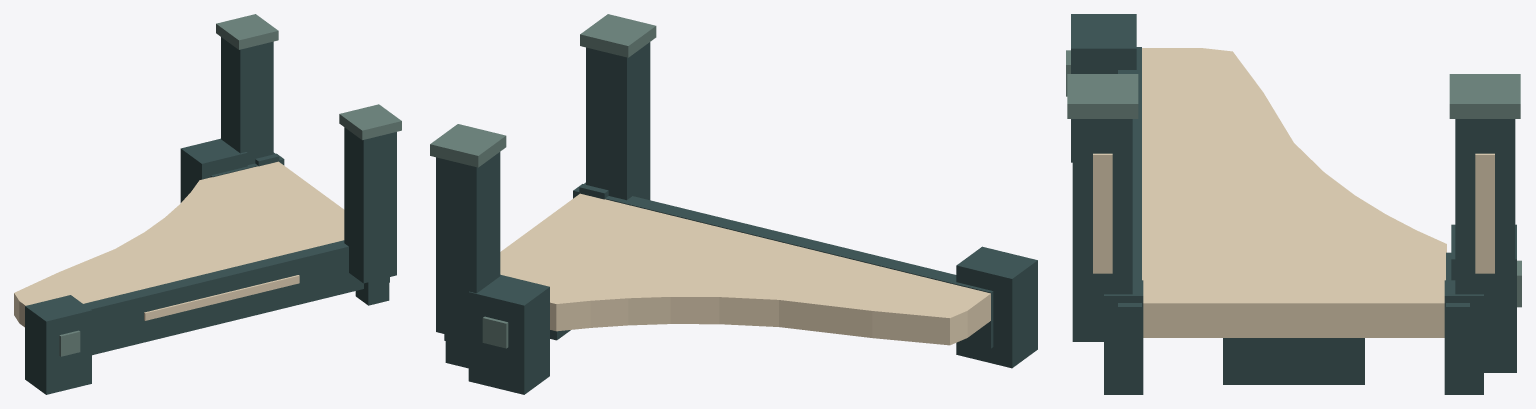
File: Pier_Angled_70_Switch_lab2.glb
3 renders of one model, left to right at view 1: azimuth 30°, elevation 25°; view 2: azimuth 150°, elevation 25°; view 3: azimuth 270°, elevation 25°, orthographic. The views are drawn at different scales.
Visible parts, largest first — view 1: Pier_Angled_70_Switch; view 2: Pier_Angled_70_Switch; view 3: Pier_Angled_70_Switch.
Part boxes in pixels (box(x1,y1,x2,y2)): Pier_Angled_70_Switch: box(14, 14, 401, 394); Pier_Angled_70_Switch: box(430, 14, 1037, 394); Pier_Angled_70_Switch: box(1066, 14, 1521, 394).
Bounding box in the file's own units: 5.88 × 2.95 × 4.17.
